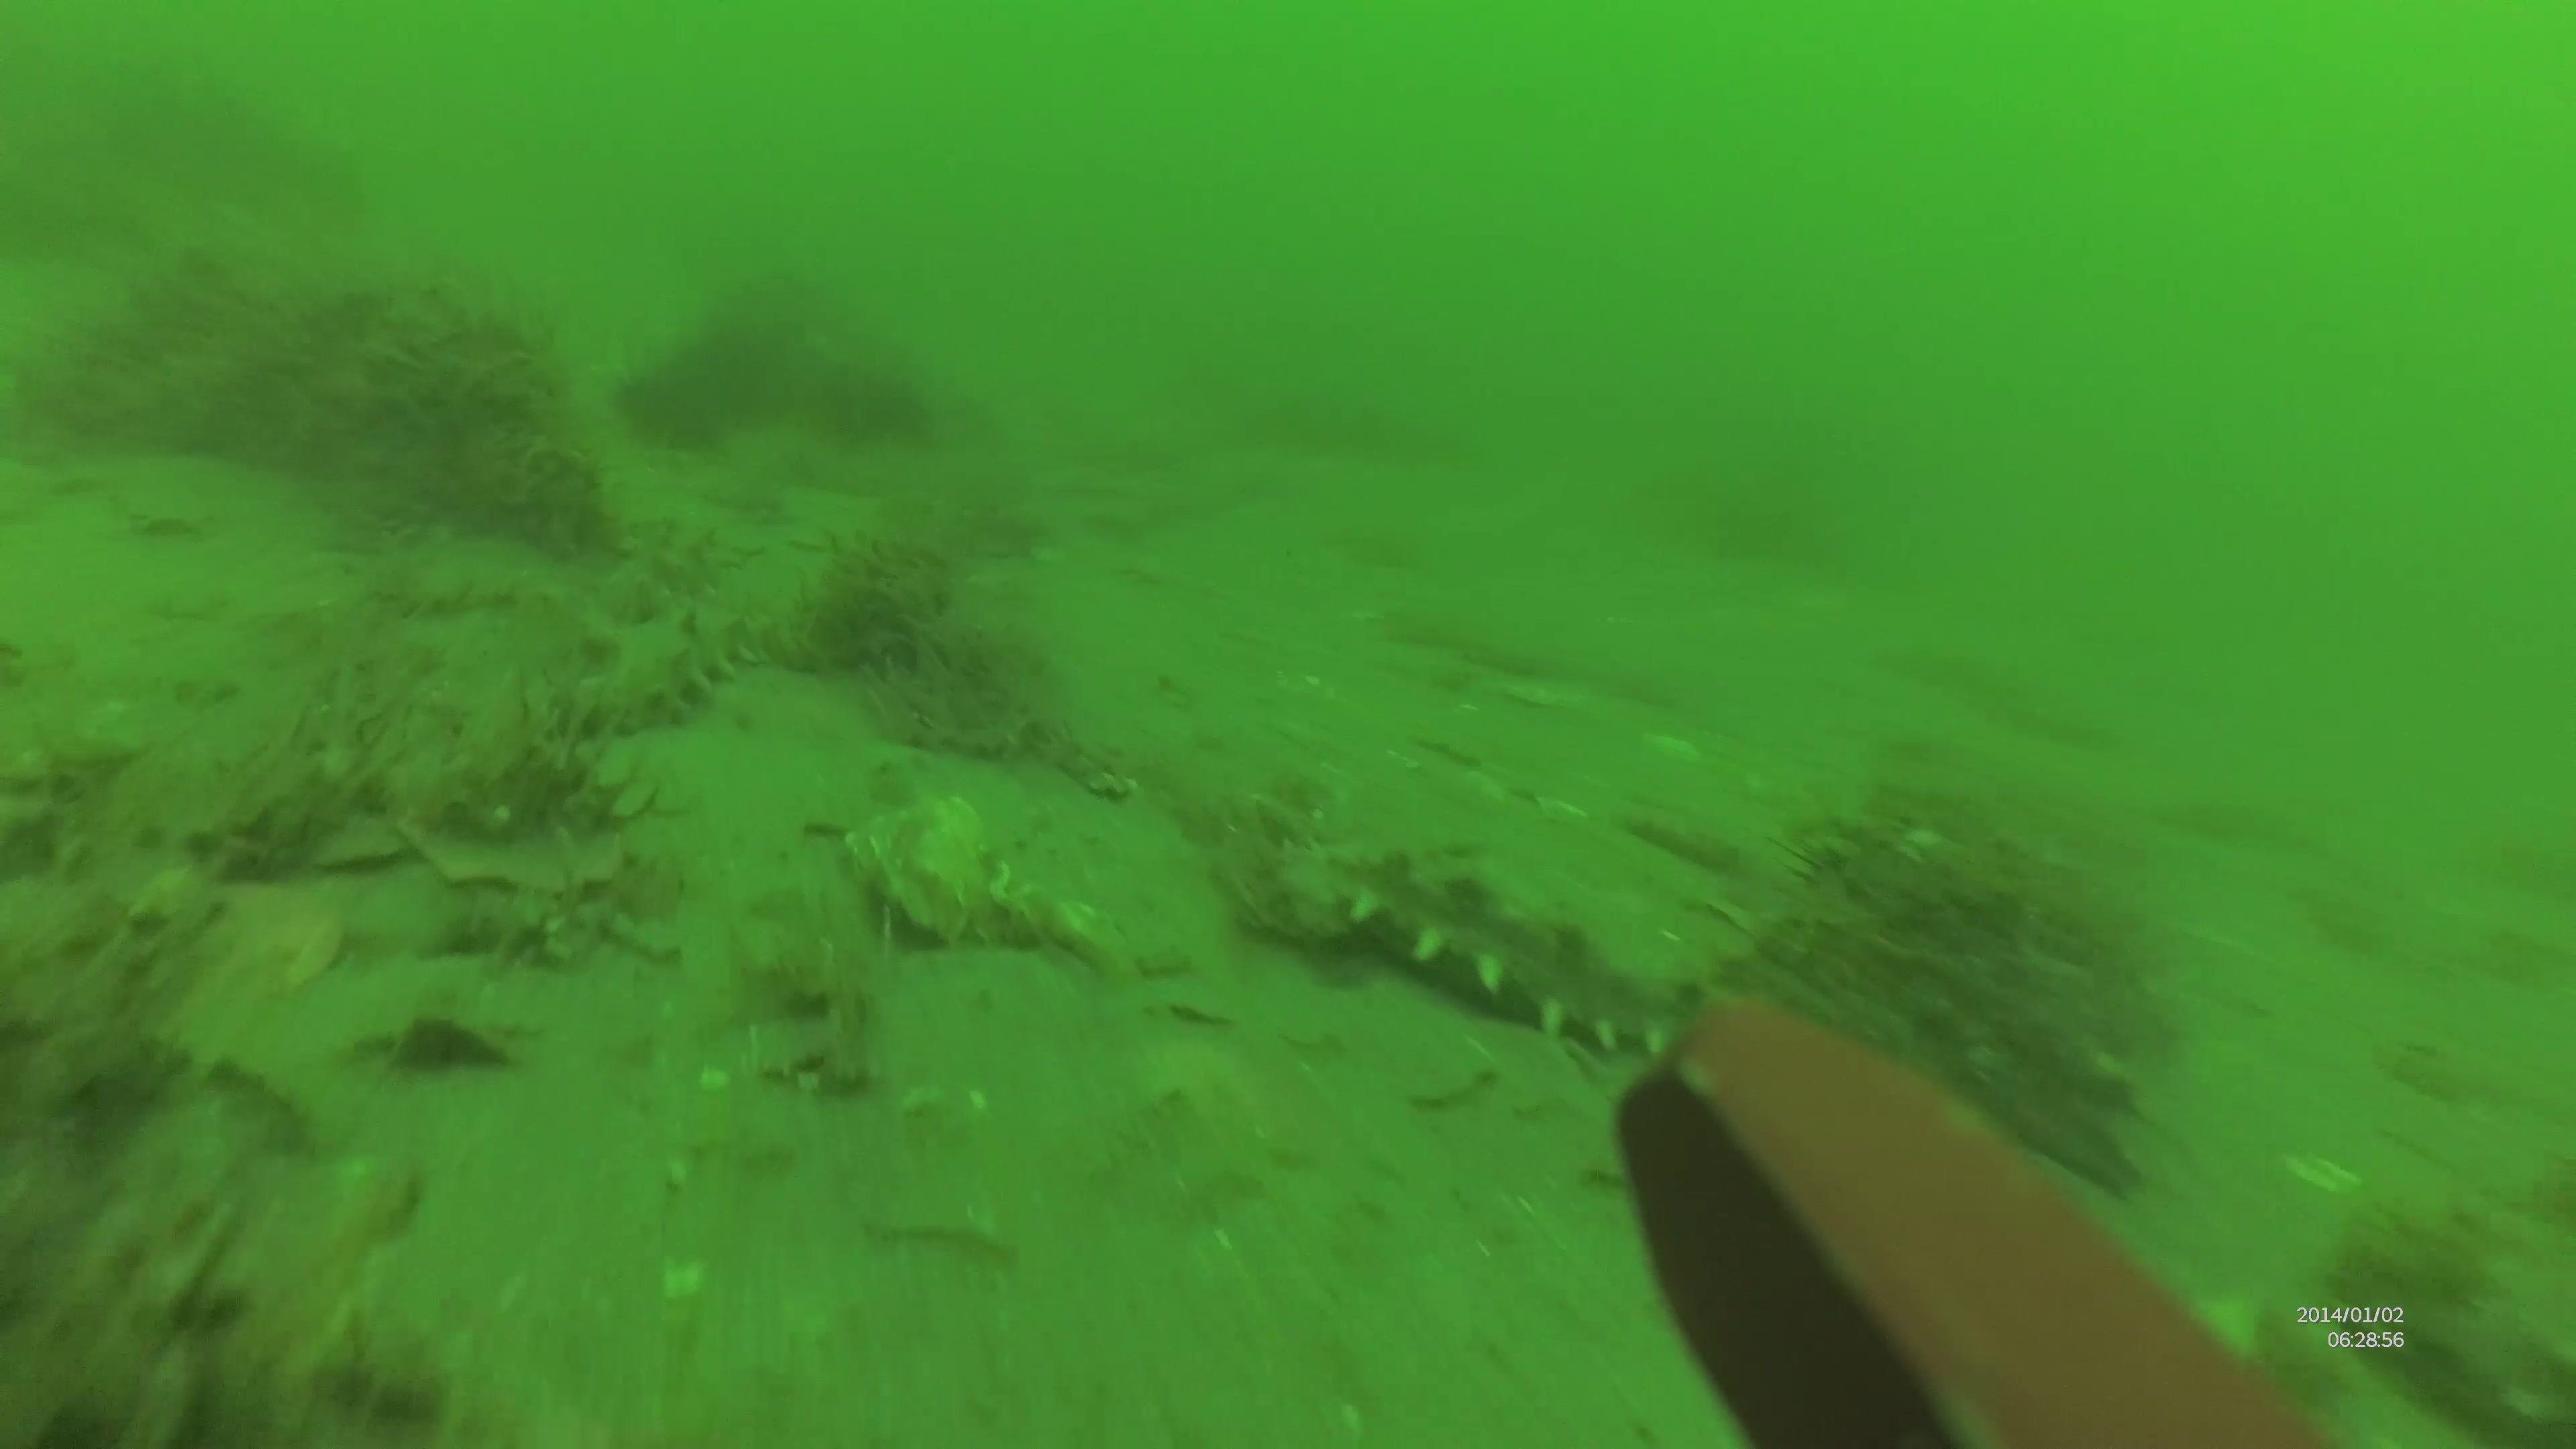holothurian: (1327, 835, 1716, 1062), (577, 596, 777, 738)
